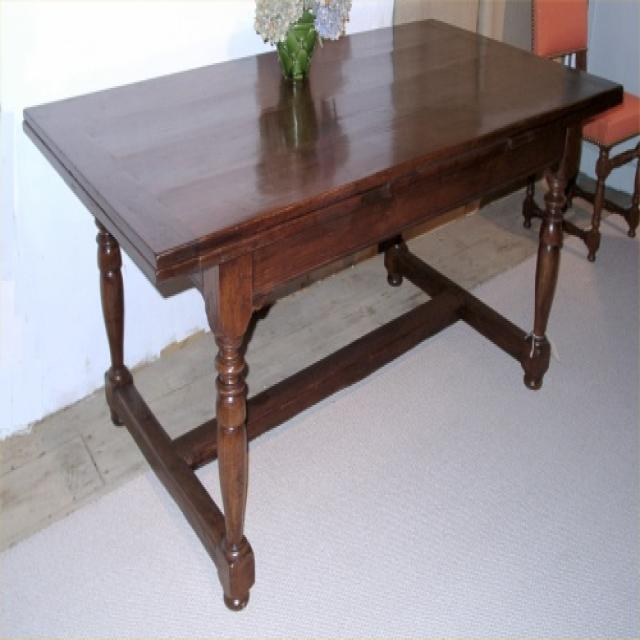table: (22, 12, 623, 612)
